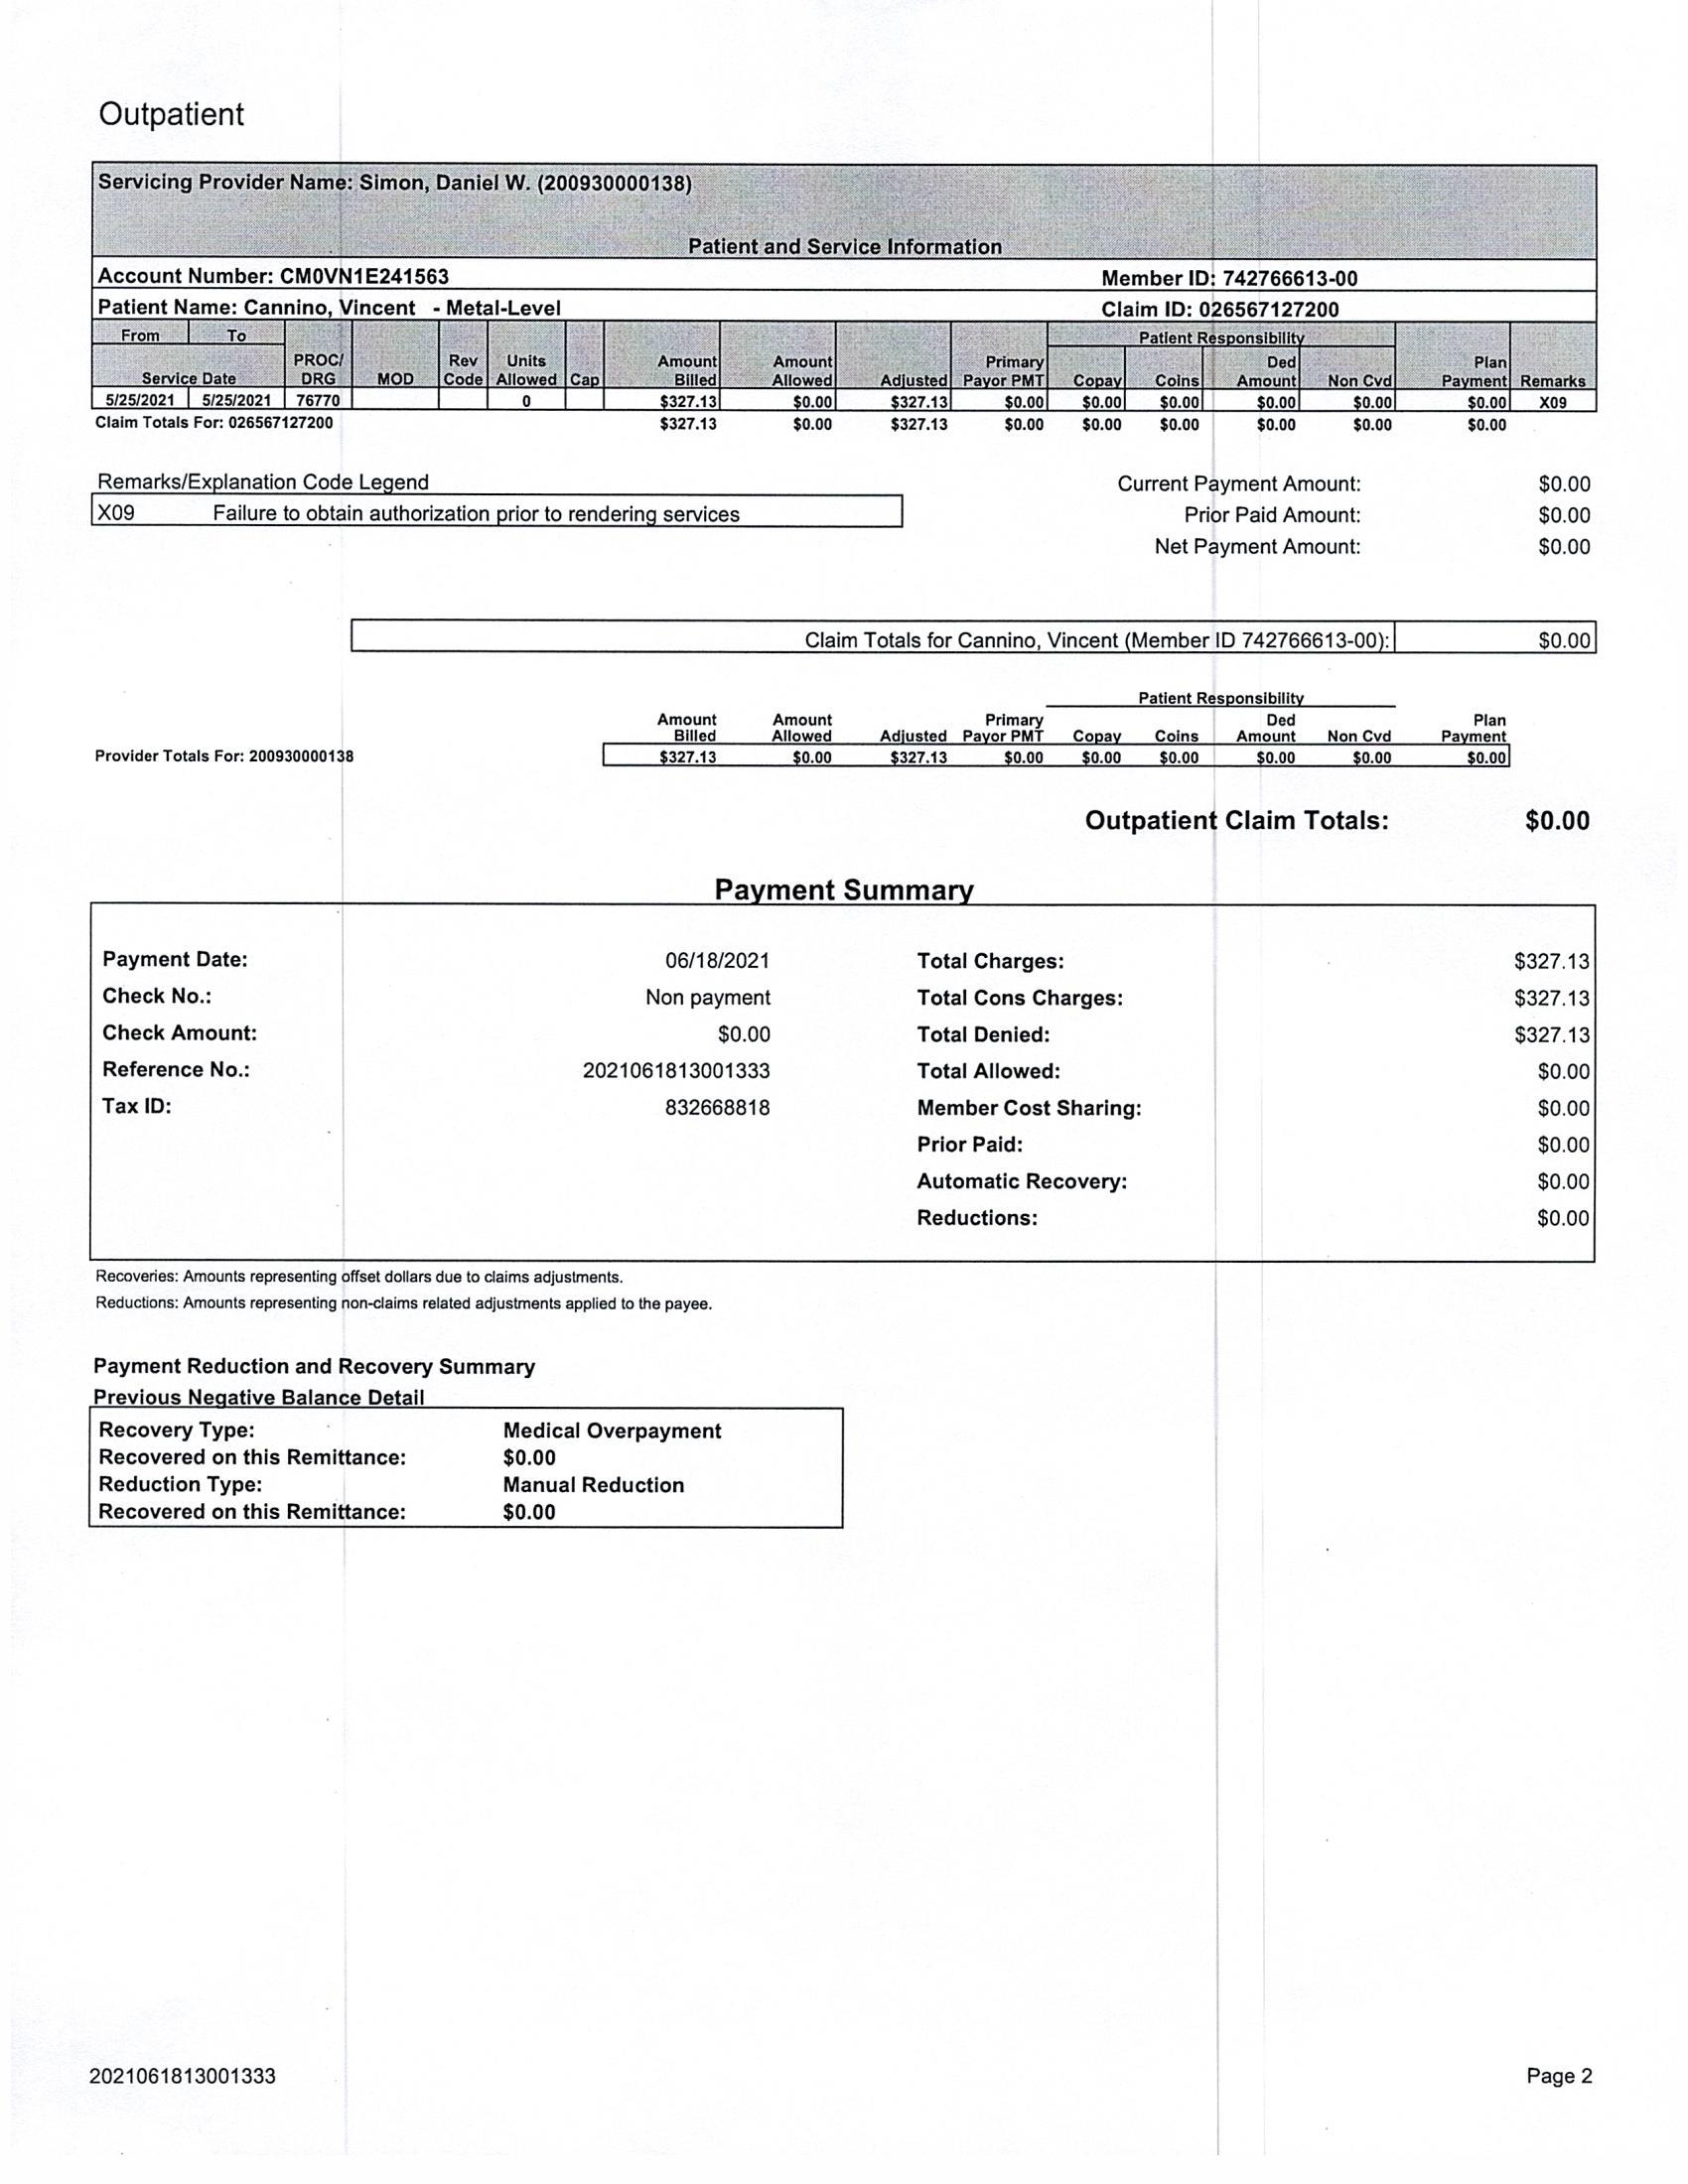data: (897, 929, 1592, 1241), (101, 927, 842, 1159)
table: (71, 252, 1614, 440)
